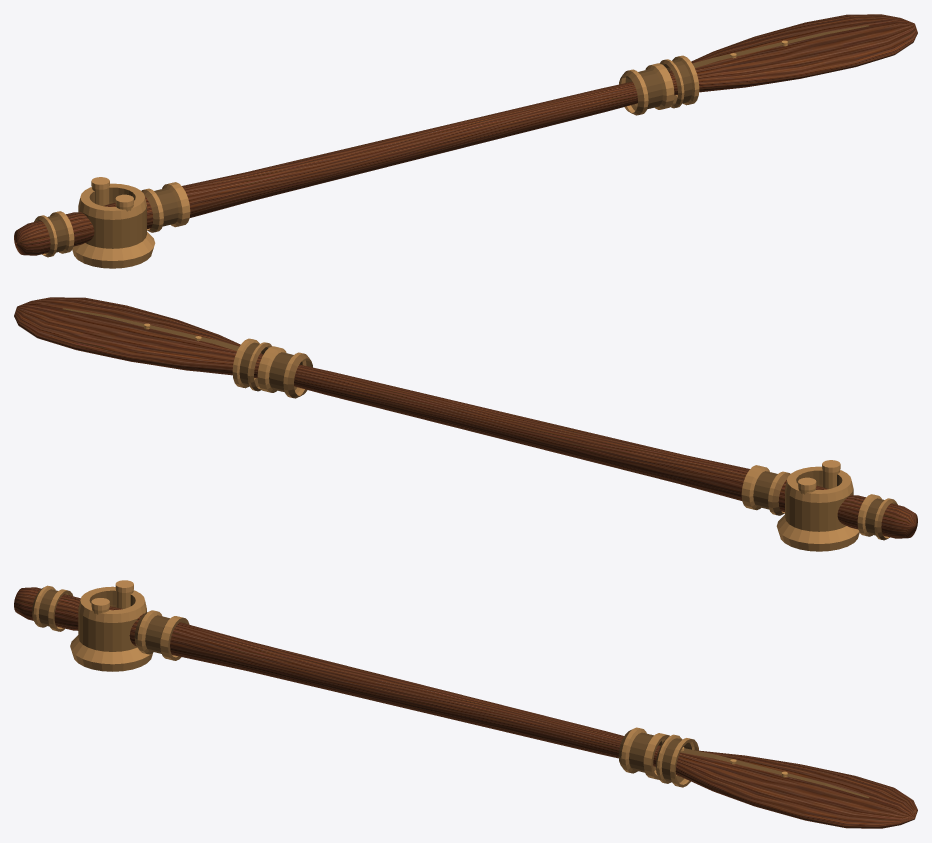
The model's file is corsair-oar.glb.
3 views of the same model, one above another, from view 1: azimuth 30°, elevation 25°; view 2: azimuth 150°, elevation 25°; view 3: azimuth 330°, elevation 25° (orthographic).
Parts seen in each view (by area): view 1: Corsair_OarMoving, Corsair_Oarlock; view 2: Corsair_OarMoving, Corsair_Oarlock; view 3: Corsair_OarMoving, Corsair_Oarlock.
Part boxes in pixels (x1=…): Corsair_OarMoving: x1=14, y1=14, x2=917, y2=257; Corsair_Oarlock: x1=72, y1=177, x2=155, y2=268; Corsair_OarMoving: x1=14, y1=297, x2=917, y2=540; Corsair_Oarlock: x1=776, y1=460, x2=859, y2=551; Corsair_OarMoving: x1=14, y1=585, x2=917, y2=828; Corsair_Oarlock: x1=70, y1=580, x2=152, y2=671.
Size of the model in its own units: 1.12 by 0.074 by 0.118.
2 materials, 1 textured.
